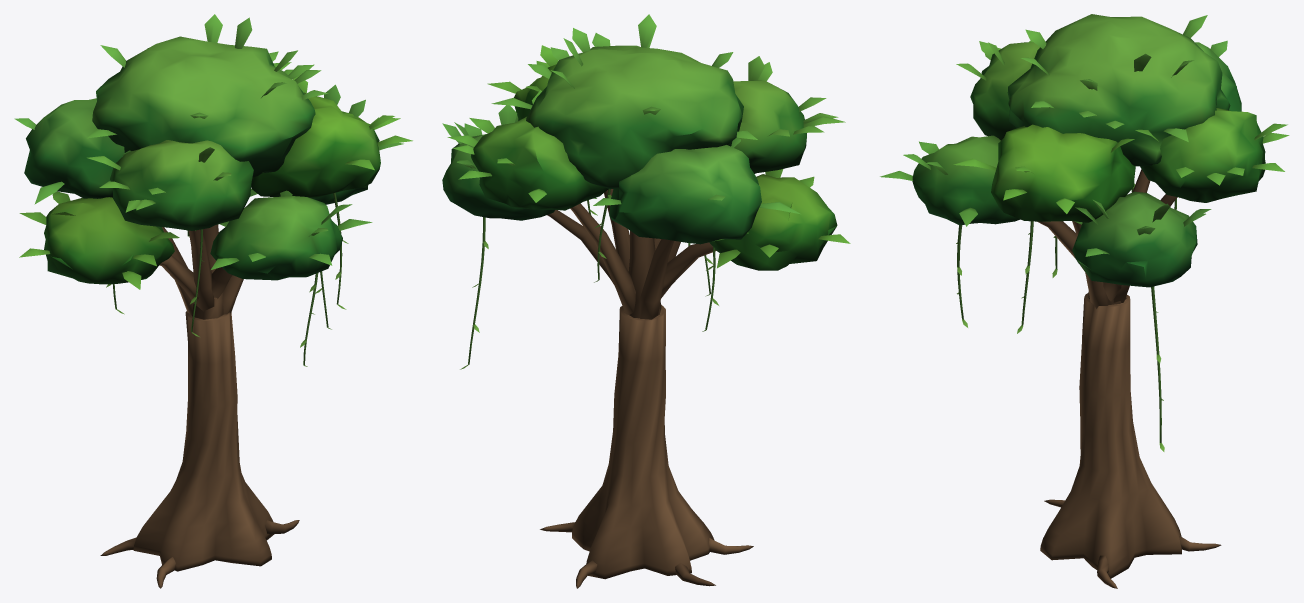
Rendered from jungle_tree.glb.
The picture shows the model from 3 angles, left to right: view 1: azimuth 30°, elevation 25°; view 2: azimuth 150°, elevation 25°; view 3: azimuth 270°, elevation 25°; orthographic projection. The views are drawn at different scales.
Parts seen in each view (by area): view 1: jungle_tree; view 2: jungle_tree; view 3: jungle_tree.
Part boxes in pixels (box(x1,y1,x2,y2)): jungle_tree: box(14, 14, 412, 588); jungle_tree: box(442, 14, 850, 588); jungle_tree: box(880, 14, 1289, 588).
Bounding box in the file's own units: 9.49 × 12 × 8.57.
